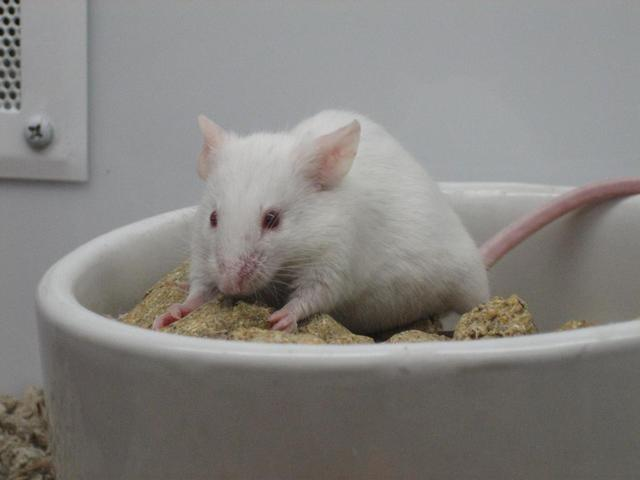mouse: (133, 79, 581, 337)
